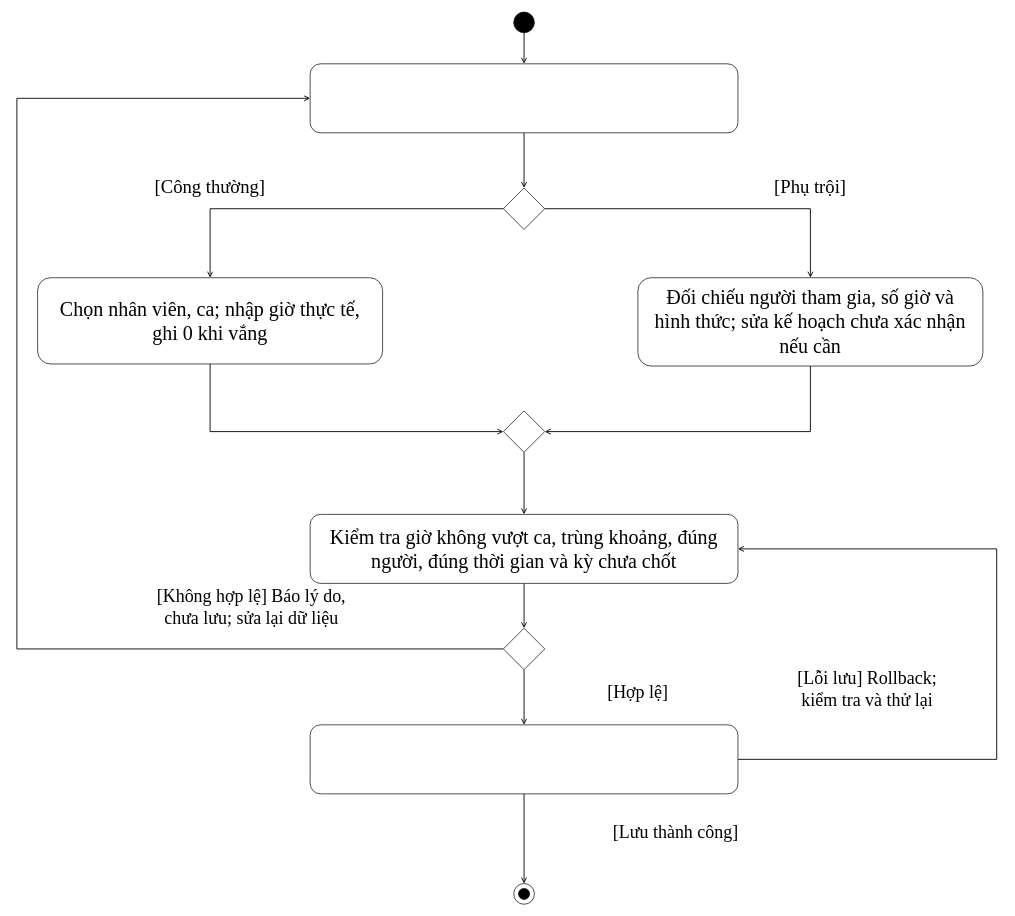
This 1015x916 diagram has some shape labels left out. Here are the shapes that lost their labels. From the top down, the centre of each, then its label:
At [523,98]: "Chọn nghiệp vụ và ngày cần chấm".
At [523,759]: "Ghi giờ thường hoặc chuyển phiếu phụ trội sang Đã xác nhận; không cộng trùng giờ".
